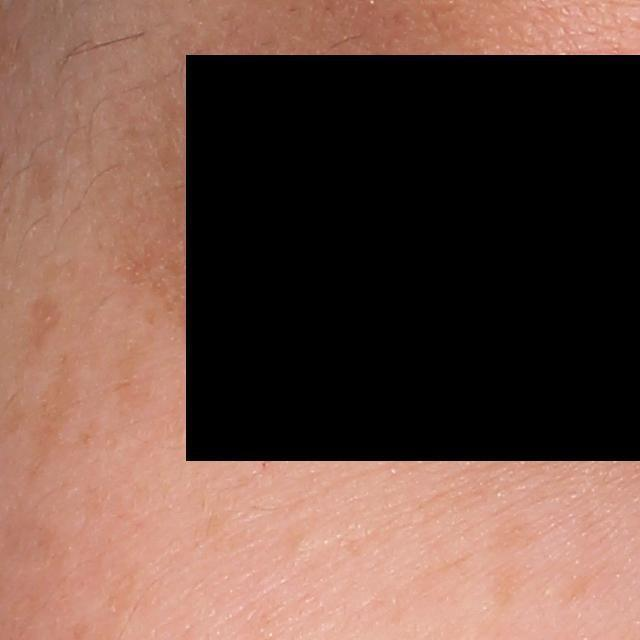melasma: (26, 348, 86, 485), (110, 338, 158, 433), (27, 290, 72, 362), (490, 559, 530, 611), (486, 513, 540, 551), (558, 567, 592, 609)
